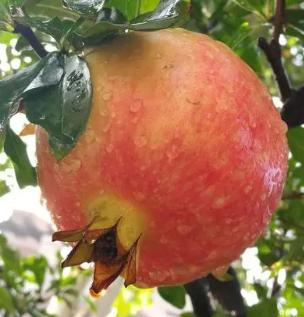pomegranate_A: (36, 27, 289, 297)
